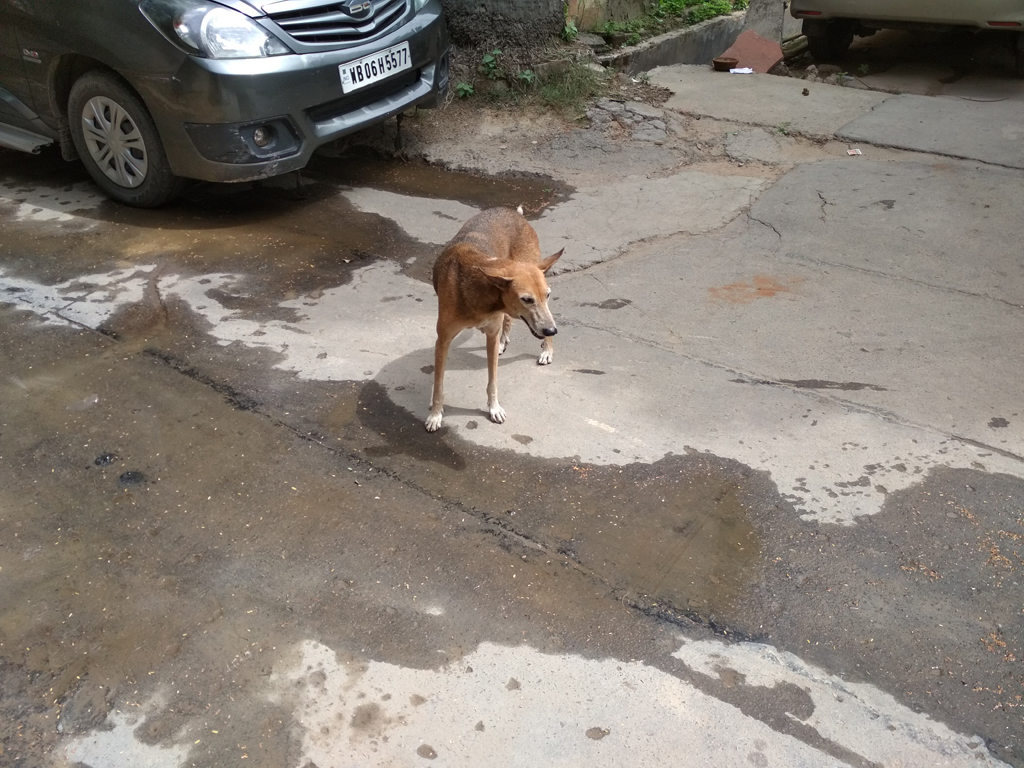dog: (425, 205, 561, 432)
